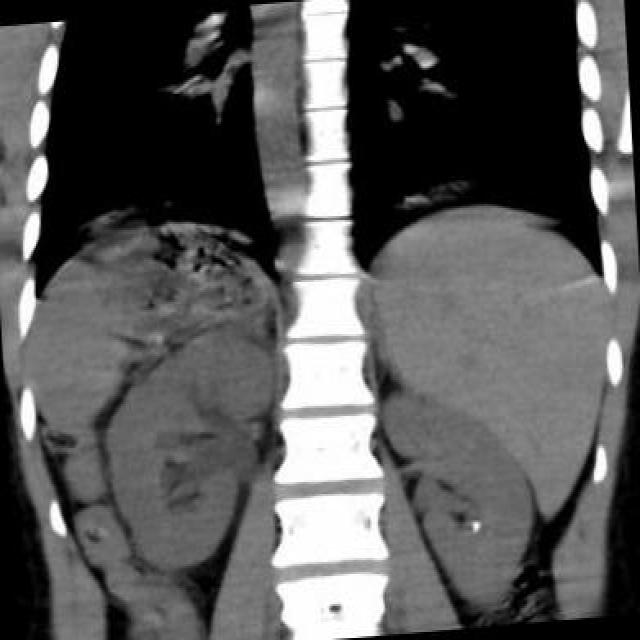Tas_Var: (466, 518, 484, 536)
